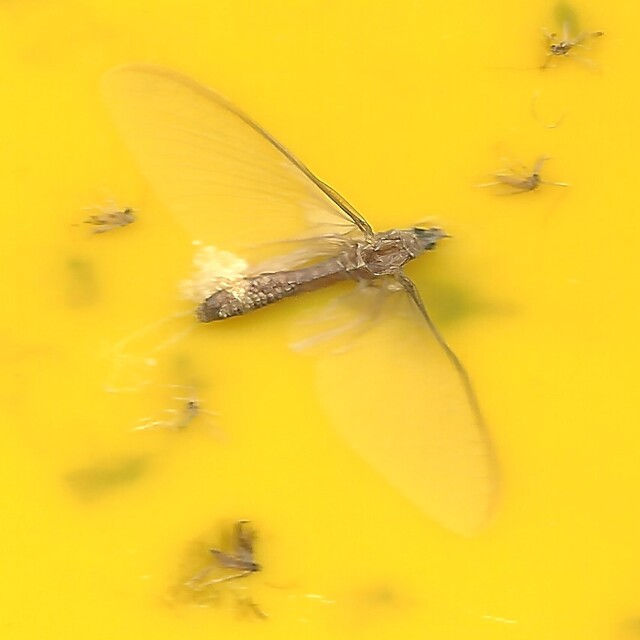Ephemeroptera: (120, 60, 502, 532)
Nematocera: (208, 516, 267, 580), (492, 159, 565, 196), (75, 203, 137, 237)
